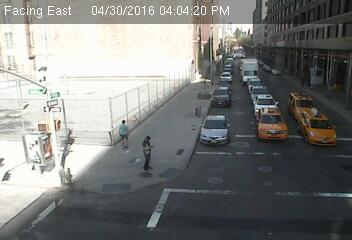neg: (35, 83, 65, 122), (293, 76, 319, 111), (23, 130, 47, 163), (52, 168, 76, 200), (221, 138, 245, 169), (191, 176, 215, 207), (181, 56, 204, 88), (269, 91, 292, 121), (269, 35, 291, 65), (80, 71, 102, 99), (268, 154, 289, 181), (36, 40, 56, 67), (145, 58, 165, 83), (88, 179, 107, 205), (133, 197, 151, 222), (230, 76, 247, 98), (86, 25, 102, 47), (112, 66, 128, 87), (304, 169, 320, 190), (231, 41, 244, 58)
pos: (131, 131, 164, 175), (113, 115, 140, 150)
